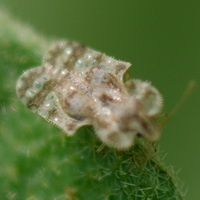insect: (16, 41, 161, 148)
